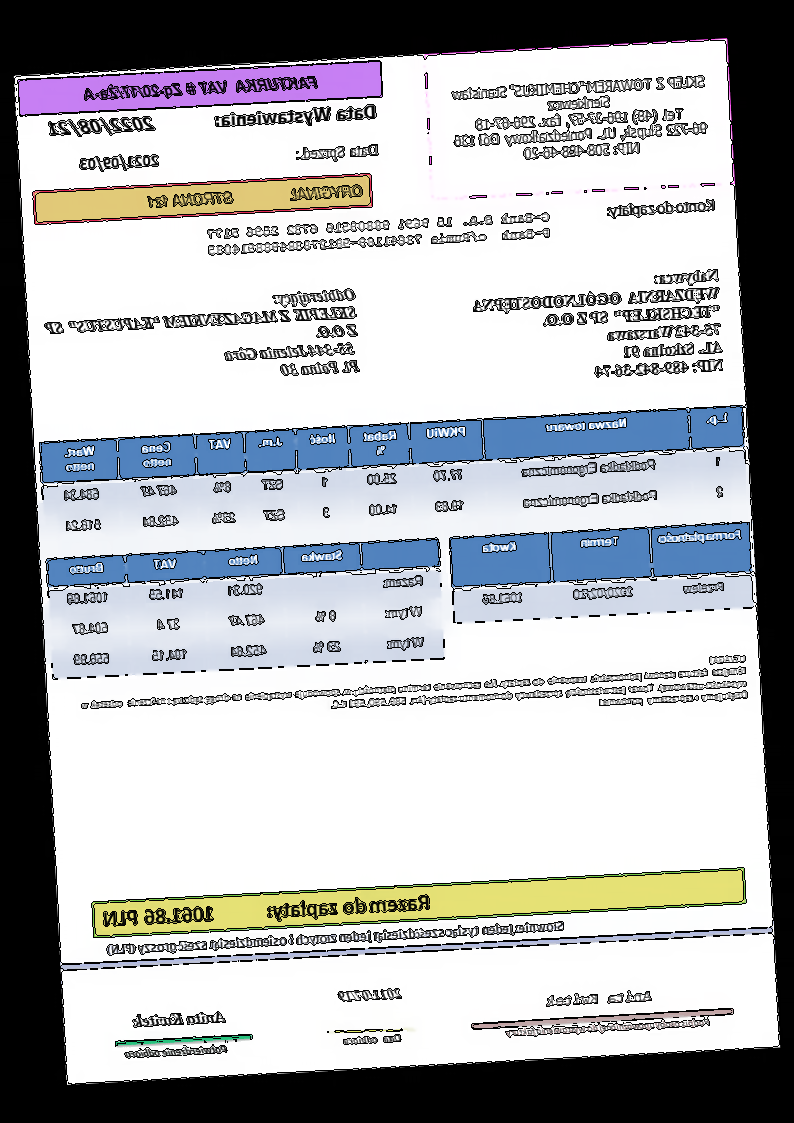Table: (38, 401, 750, 550), (45, 537, 449, 681), (446, 519, 756, 626)
TextBox: (76, 650, 750, 737), (42, 286, 364, 394), (466, 266, 728, 389), (446, 70, 715, 168), (105, 915, 568, 958), (203, 208, 557, 258), (100, 888, 433, 930), (77, 68, 324, 105), (145, 181, 365, 212), (211, 101, 380, 133), (502, 1015, 714, 1039), (46, 110, 156, 139), (603, 195, 720, 221), (547, 987, 654, 1008), (291, 140, 384, 164), (129, 1008, 230, 1029), (121, 1043, 230, 1061), (77, 153, 162, 174), (334, 985, 404, 1004), (338, 1031, 403, 1047)
